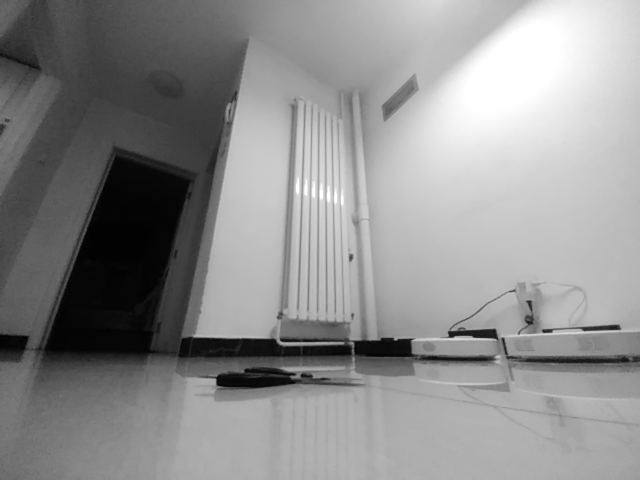others: (216, 365, 368, 390)
